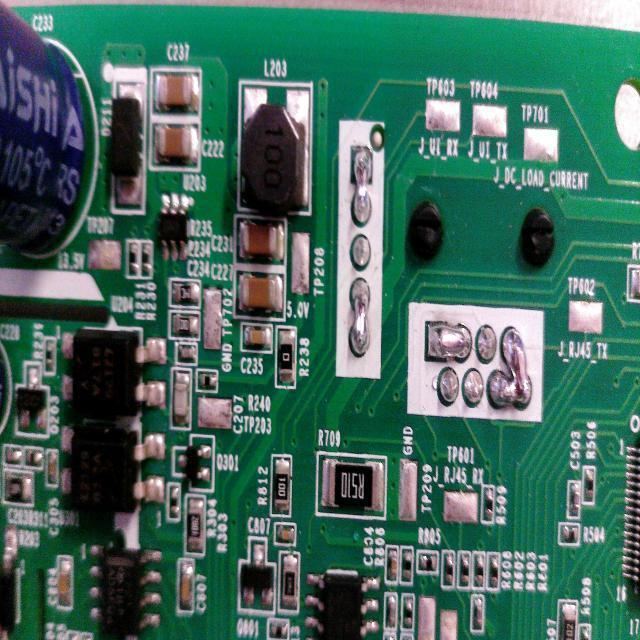Soldering shorted: (488, 314, 533, 413), (426, 318, 474, 362), (351, 274, 371, 364), (352, 145, 372, 229)
